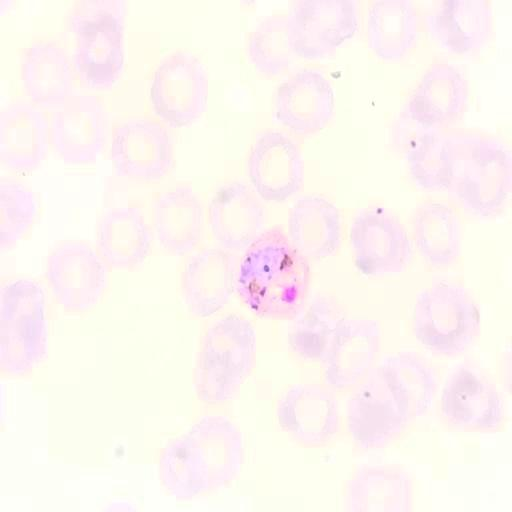Infected: (237, 226, 309, 319)
Uninfected: (344, 371, 412, 446), (445, 135, 510, 213), (70, 1, 128, 83), (413, 281, 481, 350), (0, 279, 48, 372), (290, 299, 355, 366), (150, 53, 209, 122), (438, 365, 499, 431), (47, 103, 109, 167), (350, 209, 410, 275), (197, 316, 254, 385), (286, 1, 354, 58), (249, 133, 305, 202), (45, 243, 104, 308), (404, 127, 463, 192), (153, 185, 211, 251), (96, 204, 153, 268), (278, 383, 339, 442), (180, 252, 235, 316), (273, 73, 332, 132), (409, 65, 467, 125), (112, 120, 171, 178), (412, 202, 464, 266), (210, 185, 266, 244), (430, 0, 490, 55), (23, 40, 76, 101), (365, 0, 418, 60), (286, 198, 339, 258), (383, 354, 436, 414), (246, 19, 296, 75)
